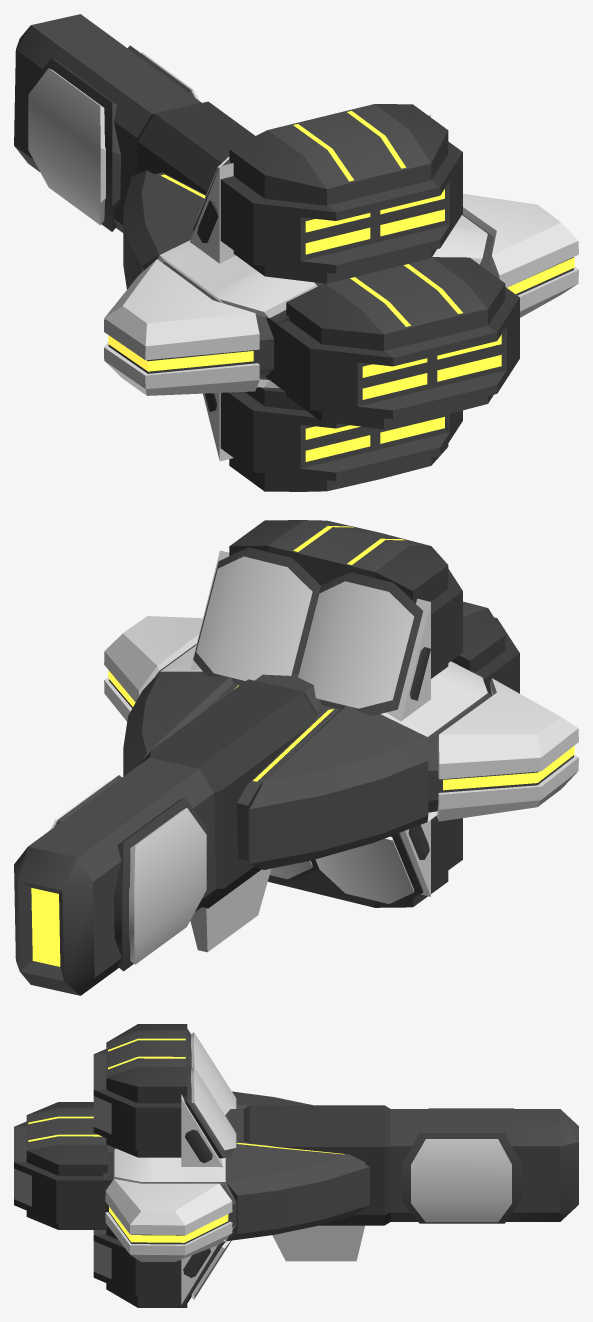
The model's file is 666_ship_medium_ignis.glb.
3 views of the same model, one above another, from view 1: azimuth 30°, elevation 25°; view 2: azimuth 150°, elevation 25°; view 3: azimuth 270°, elevation 25° (orthographic). The views are drawn at different scales.
Visible parts, largest first — view 1: 66_ship_ignis; view 2: 66_ship_ignis; view 3: 66_ship_ignis.
Part boxes in pixels (left/top/right/bottom): 66_ship_ignis: left=14, top=14, right=578, bottom=491; 66_ship_ignis: left=14, top=520, right=578, bottom=995; 66_ship_ignis: left=14, top=1024, right=578, bottom=1307.
Size of the model in its own units: 0.6248 by 0.4586 by 1.
